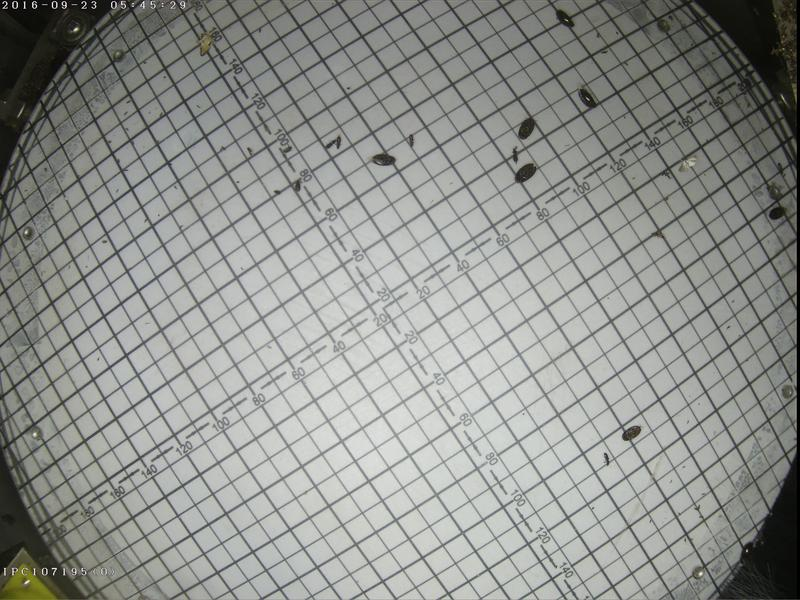Rice Leaf Roller: (194, 29, 212, 55)
